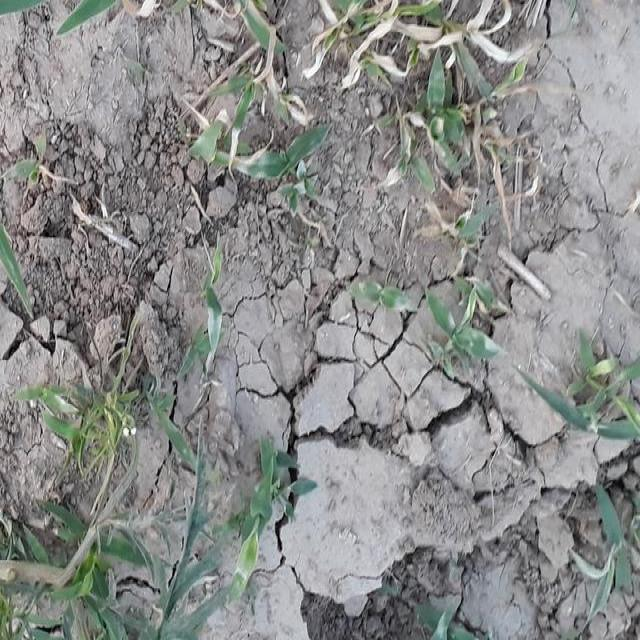weed: (191, 0, 523, 173), (11, 321, 163, 636)
